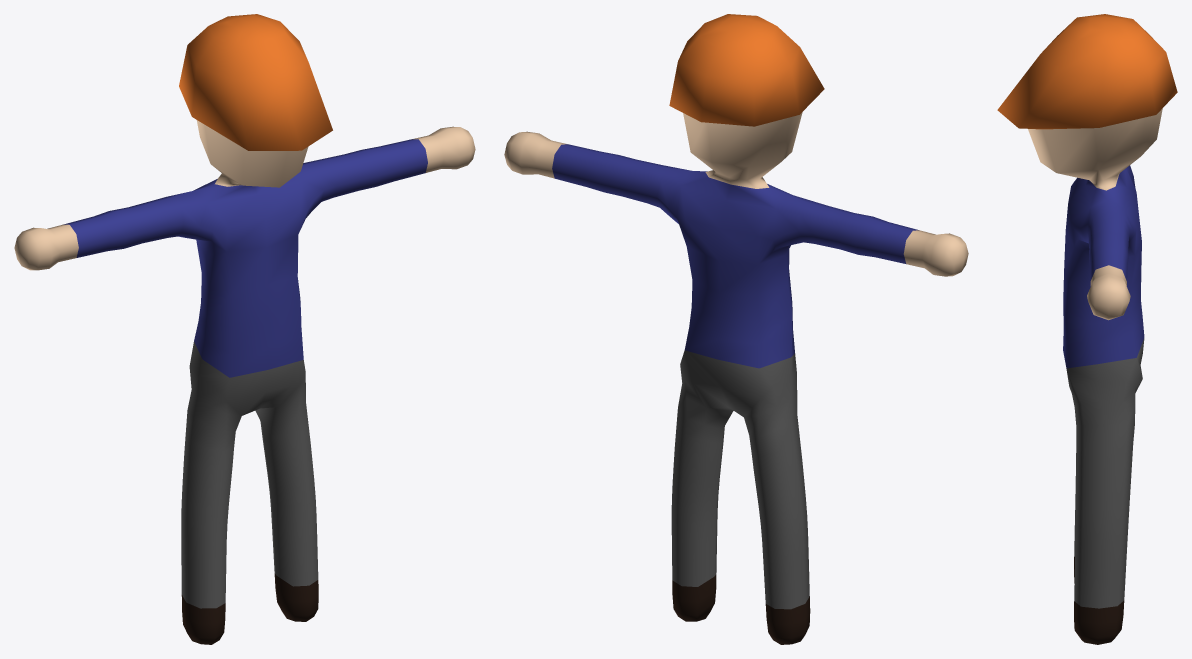
Rendered from doll_worker_color.glb.
3 views of the same model, side by side, from view 1: azimuth 30°, elevation 25°; view 2: azimuth 150°, elevation 25°; view 3: azimuth 270°, elevation 25° (orthographic). The views are drawn at different scales.
Parts seen in each view (by area): view 1: Doll; view 2: Doll; view 3: Doll.
Boxes of the visible parts, x1,y1,x2,y2 form: Doll: (14,14,475,644); Doll: (504,14,968,644); Doll: (997,14,1177,644).
Size of the model in its own units: 1.44 by 1.85 by 0.5055.
